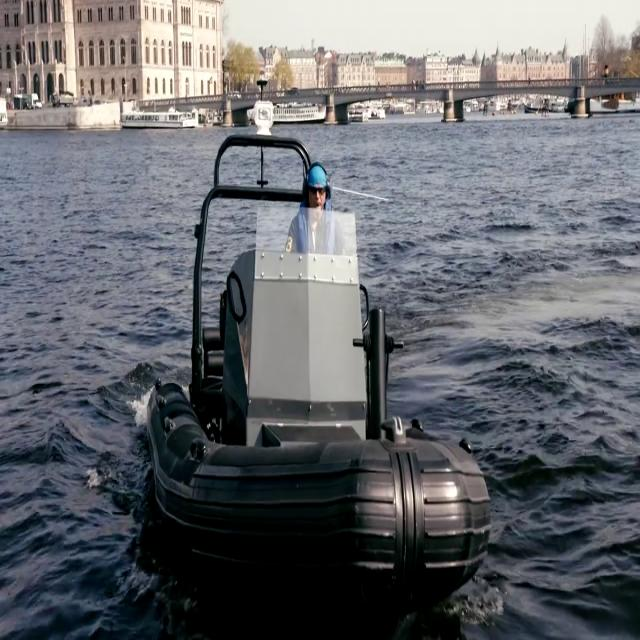earmuff: (311, 196, 325, 210), (301, 180, 309, 202), (325, 181, 332, 198)
glasses: (309, 186, 326, 197)
